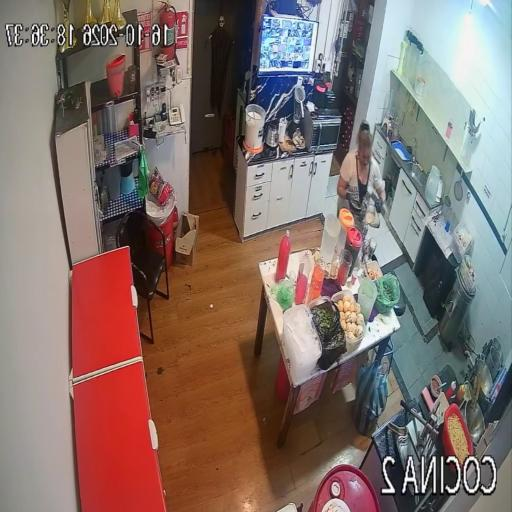Envase Ketchup: (446, 380, 455, 400)
Envase Llajua: (451, 388, 464, 405)
Jarra1: (346, 228, 362, 274)
Jarra2: (338, 208, 354, 247)
Jarra3: (321, 214, 339, 264)
Microondas: (304, 111, 341, 152)
Persona3: (337, 120, 386, 237)
Taper: (452, 225, 472, 261)
Taper2: (309, 296, 346, 370)
Taper3: (282, 304, 322, 384)
Taper4: (330, 290, 366, 352)
olla1: (474, 358, 493, 401)
